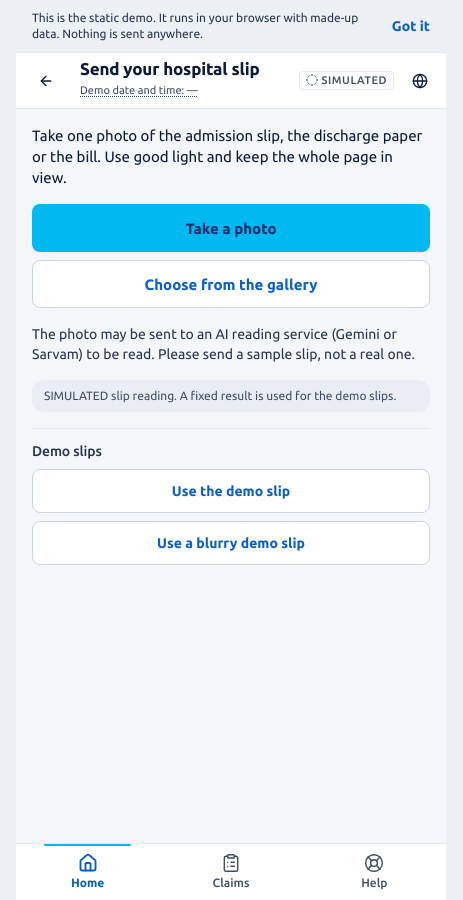
Scenario: reading, errors and offline › says so when no check-in is open (409) and offers the photo buttons again
Expected: the element with test id "screen-slip" is shown, [16,109,446,581]
Click the button with test id "slip-demo-good": (231, 491) [32,469,430,513]
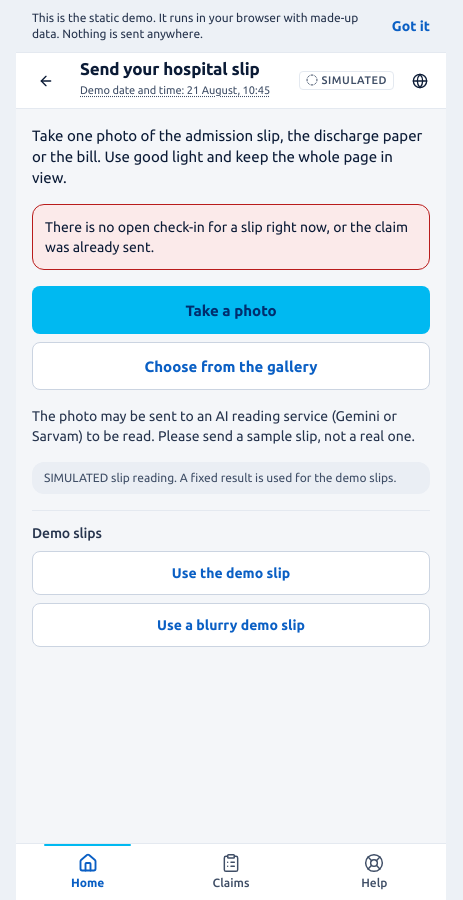
Expected: the button with test id "slip-take" is shown, [32,286,430,334]
Expected: the message with test id "slip-error" shows "no open check-in", [45,219,408,255]
